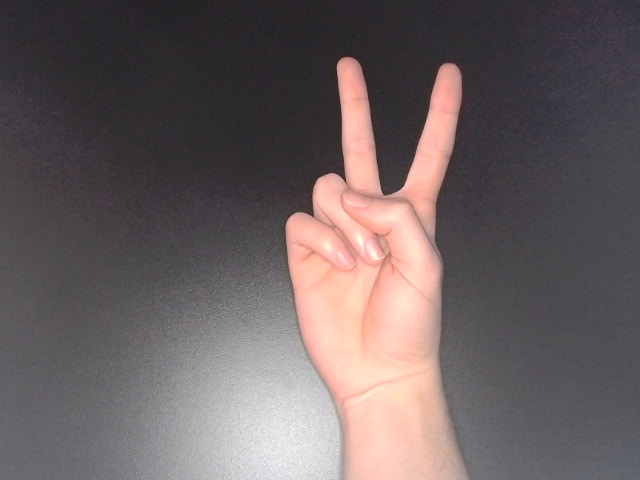v: (277, 51, 468, 412)
